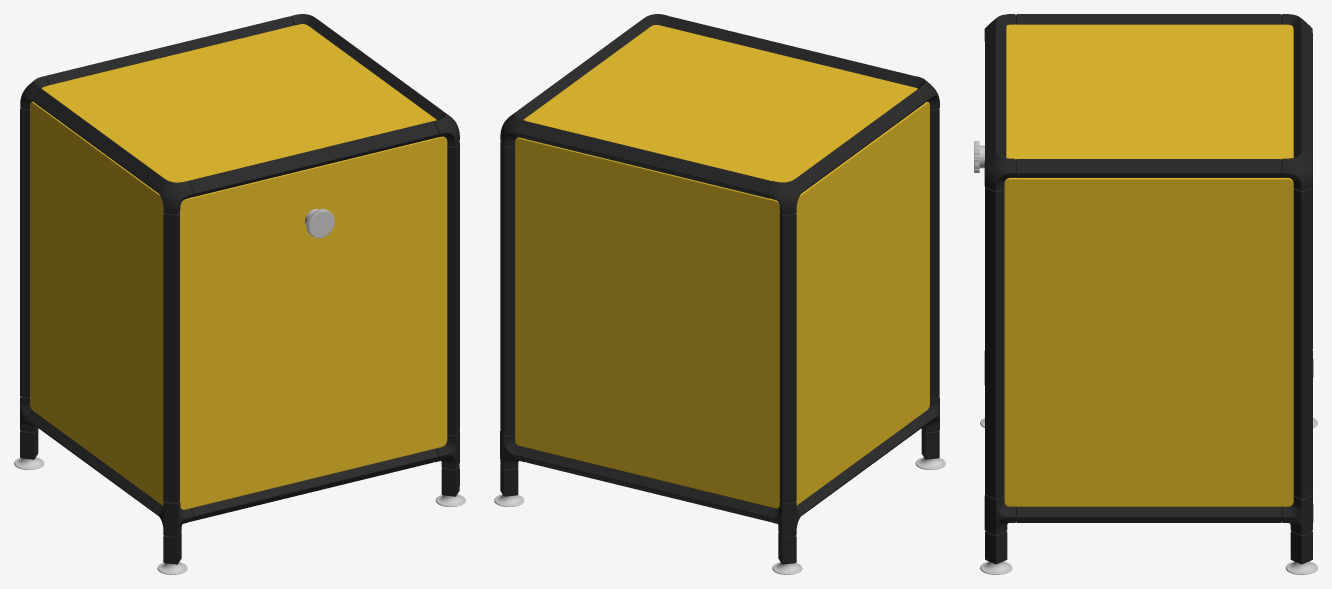
3 renders of one model, left to right at view 1: azimuth 30°, elevation 25°; view 2: azimuth 150°, elevation 25°; view 3: azimuth 270°, elevation 25°, orthographic. The views are drawn at different scales.
Parts seen in each view (by area): view 1: 374x329x420; view 2: 374x329x420; view 3: 374x329x420.
Boxes of the visible parts, x1=… form: 374x329x420: x1=14, y1=14, x2=465, y2=574; 374x329x420: x1=494, y1=14, x2=945, y2=574; 374x329x420: x1=974, y1=14, x2=1317, y2=574.
Size of the model in its own units: 0.4639 by 0.5593 by 0.4257.
